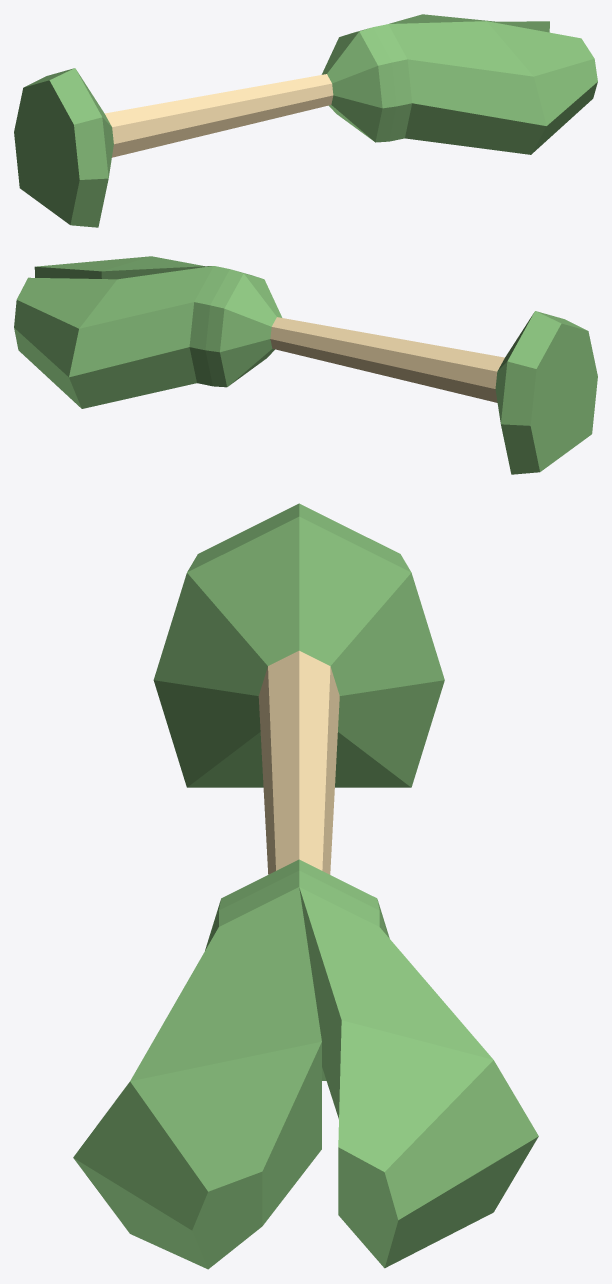
The model's file is LeftArm.fbx.
The picture shows the model from 3 angles, top to bottom: view 1: azimuth 30°, elevation 25°; view 2: azimuth 150°, elevation 25°; view 3: azimuth 270°, elevation 25°; orthographic projection. The views are drawn at different scales.
Parts seen in each view (by area): view 1: LeftArm; view 2: LeftArm; view 3: LeftArm.
Boxes of the visible parts, left/top/right/bottom form: LeftArm: left=14, top=14, right=597, bottom=227; LeftArm: left=14, top=256, right=597, bottom=474; LeftArm: left=73, top=503, right=538, bottom=1269.
Size of the model in its own units: 166 by 47.22 by 63.53.
